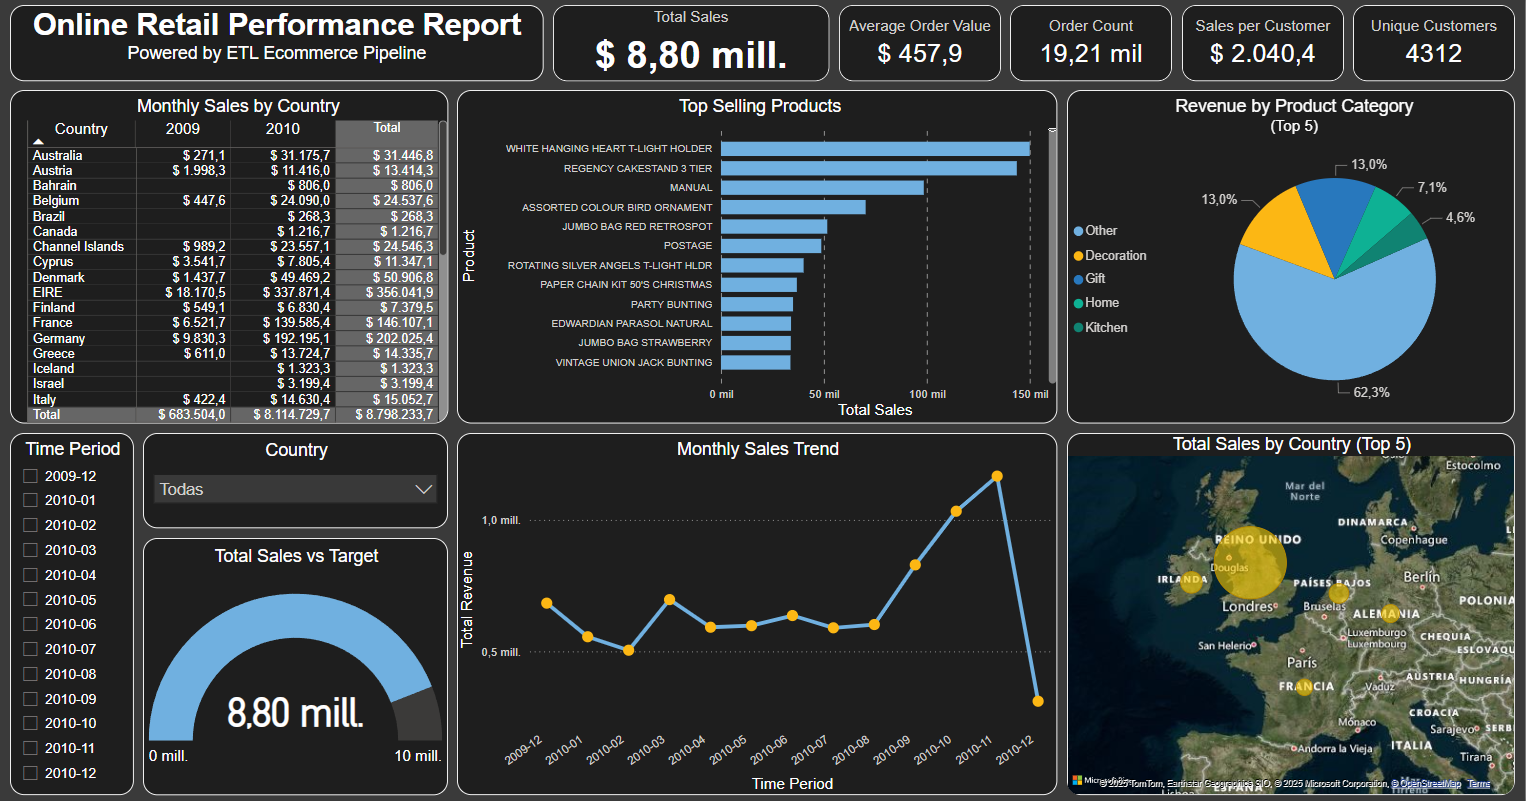

This screenshot's page, from the dashboard's own definition file:
{"tool":"powerbi","page":{"name":"Dashboard","canvas":[1600,850],"ordinal":0},"visuals":[{"type":"lineChart","title":"Monthly Sales Trend","fields":{"Y":["Sum(ecommerce_data cleaned_sales.TotalPrice)"],"Category":["ecommerce_data cleaned_sales.YearMonthText"]},"box":[480,460,630,380],"z":0},{"type":"cardVisual","fields":{"Data":["cleaned_sales.Total Sales"]},"box":[580,10,290,80],"z":1000},{"type":"textbox","box":[10,10,560,80],"z":2000},{"type":"cardVisual","fields":{"Data":["ventas_limpias.AOV"]},"box":[880,10,170,80],"z":3000},{"type":"cardVisual","fields":{"Data":["ventas_limpias.Order Count"]},"box":[1060,10,170,80],"z":4000},{"type":"cardVisual","fields":{"Data":["ventas_limpias.Unique Customers"]},"box":[1420,10,170,80],"z":5000},{"type":"cardVisual","fields":{"Data":["ventas_limpias.Sales per Customer"]},"box":[1240,10,170,80],"z":6000},{"type":"clusteredBarChart","title":"Top Selling Products","fields":{"Y":["ventas_limpias.Total Sales by Product"],"Category":["ventas_limpias.Description"]},"box":[480,100,630,350],"z":7000},{"type":"map","title":"Total Sales by Country (Top 5)","fields":{"Category":["ventas_limpias.Country"],"Size":["Sum(ventas_limpias.TotalPrice)"]},"box":[1120,460,470,380],"z":8000},{"type":"slicer","title":"Time Period","fields":{"Values":["ventas_limpias.YearMonth"]},"box":[10,460,130,380],"z":9000},{"type":"pieChart","title":"Revenue by Product Category","fields":{"Category":["cleaned_sales.ProductCategory"],"Y":["Sum(cleaned_sales.TotalPrice)"]},"box":[1120,100,470,350],"z":10000},{"type":"pivotTable","title":"Monthly Sales by Country","fields":{"Rows":["cleaned_sales.Country"],"Columns":["cleaned_sales.YearMonth.Variación.Jerarquía de fechas.Año","cleaned_sales.YearMonth.Variación.Jerarquía de fechas.Trimestre","cleaned_sales.YearMonth.Variación.Jerarquía de fechas.Mes","cleaned_sales.YearMonth.Variación.Jerarquía de fechas.Día"],"Values":["cleaned_sales.Total Sales"]},"box":[10,100,460,350],"z":11000},{"type":"slicer","title":"Country","fields":{"Values":["cleaned_sales.Country"]},"box":[150,460,320,100],"z":12000},{"type":"gauge","title":"Total Sales vs Target","fields":{"Y":["cleaned_sales.Total Sales"],"MaxValue":["cleaned_sales.Sales Target"]},"box":[150,570,320,270],"z":13000}]}

Visuals, with their boxes in screenshot pixels (x1, y1, x2, y2), scaled from the page's 1600x850 canvas onto the 1526x801 screenshot:
"Monthly Sales Trend" lineChart: <bbox>458, 433, 1059, 792</bbox>
cardVisual - cleaned_sales.Total Sales: <bbox>553, 9, 830, 85</bbox>
textbox: <bbox>10, 9, 544, 85</bbox>
cardVisual - ventas_limpias.AOV: <bbox>839, 9, 1001, 85</bbox>
cardVisual - ventas_limpias.Order Count: <bbox>1011, 9, 1173, 85</bbox>
cardVisual - ventas_limpias.Unique Customers: <bbox>1354, 9, 1516, 85</bbox>
cardVisual - ventas_limpias.Sales per Customer: <bbox>1183, 9, 1345, 85</bbox>
"Top Selling Products" clusteredBarChart: <bbox>458, 94, 1059, 424</bbox>
"Total Sales by Country (Top 5)" map: <bbox>1068, 433, 1516, 792</bbox>
"Time Period" slicer: <bbox>10, 433, 134, 792</bbox>
"Revenue by Product Category" pieChart: <bbox>1068, 94, 1516, 424</bbox>
"Monthly Sales by Country" pivotTable: <bbox>10, 94, 448, 424</bbox>
"Country" slicer: <bbox>143, 433, 448, 528</bbox>
"Total Sales vs Target" gauge: <bbox>143, 537, 448, 792</bbox>
